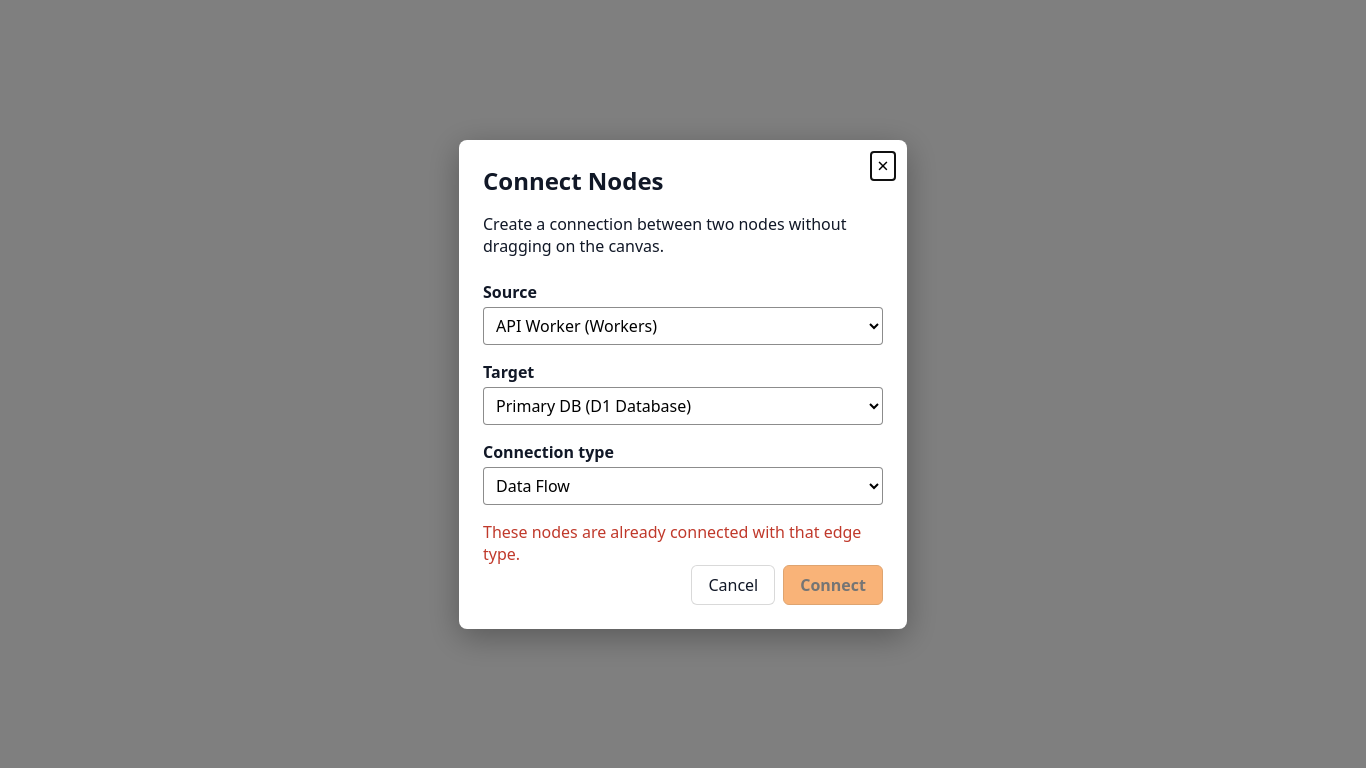
Scenario: refusing an impossible connection › allows the same pair again once a different type is chosen
The image size is (1366, 768).
Select "Trigger" in the dropdown labelled "Connection type" at (683, 486), box [483,466,883,504]
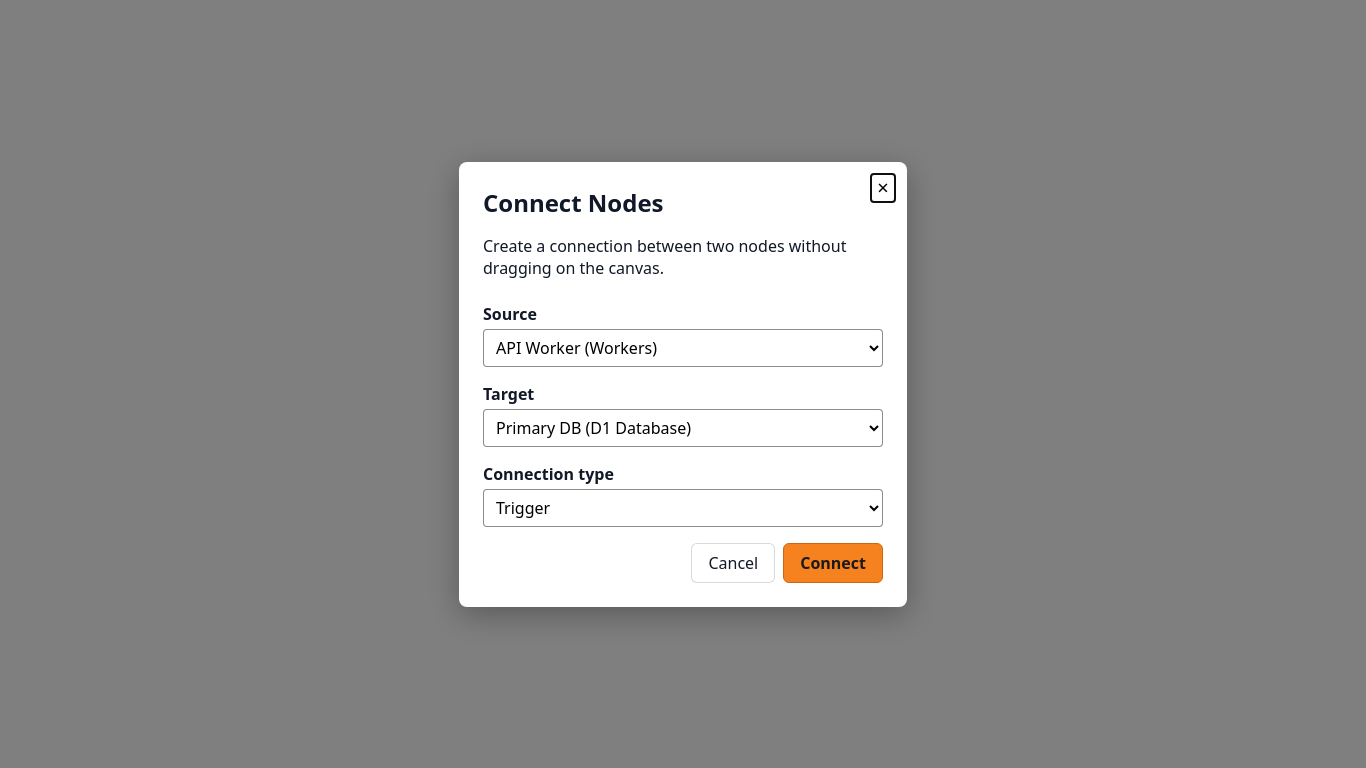
Expected: the message "These nodes are already connected with that edge type." is gone
Expected: the button "Connect" is enabled, [783,542,883,582]
